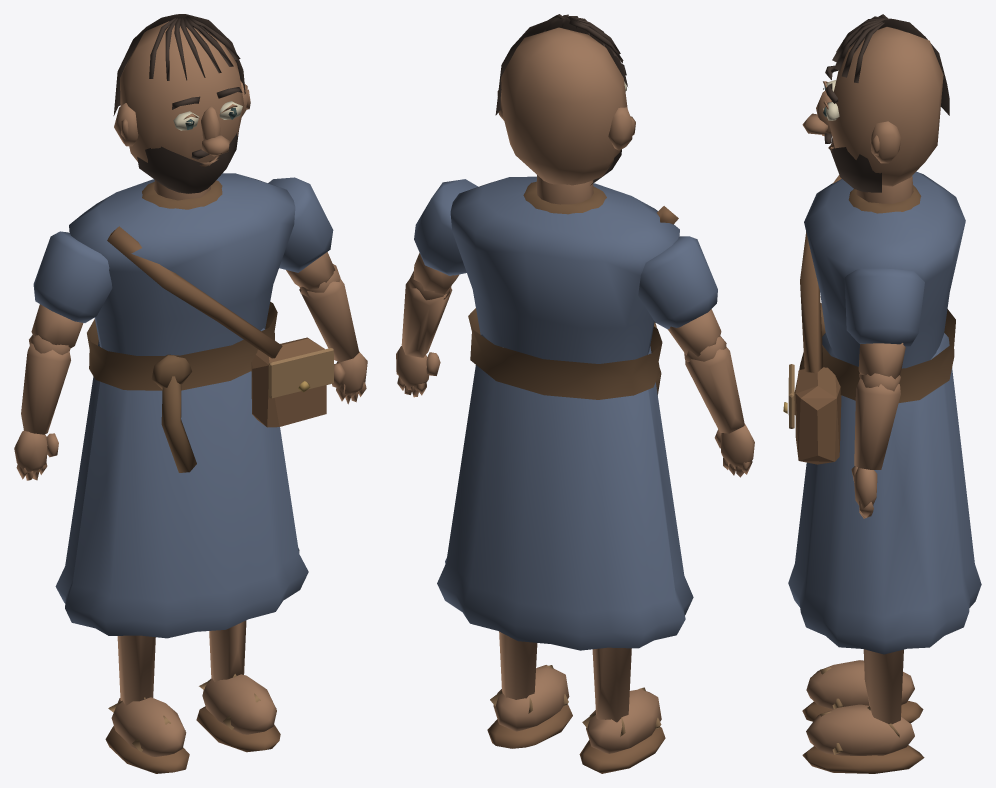
Rendered from citizen-indigo.glb.
3 renders of one model, left to right at view 1: azimuth 30°, elevation 25°; view 2: azimuth 150°, elevation 25°; view 3: azimuth 270°, elevation 25°, orthographic.
Parts seen in each view (by area): view 1: citizen-indigo__Visual_matte; view 2: citizen-indigo__Visual_matte; view 3: citizen-indigo__Visual_matte.
Part boxes in pixels (left/top/right/bottom): citizen-indigo__Visual_matte: left=14, top=14, right=367, bottom=773; citizen-indigo__Visual_matte: left=396, top=14, right=754, bottom=773; citizen-indigo__Visual_matte: left=783, top=14, right=981, bottom=773.
Bounding box in the file's own units: 0.967 × 1.91 × 0.4722.
